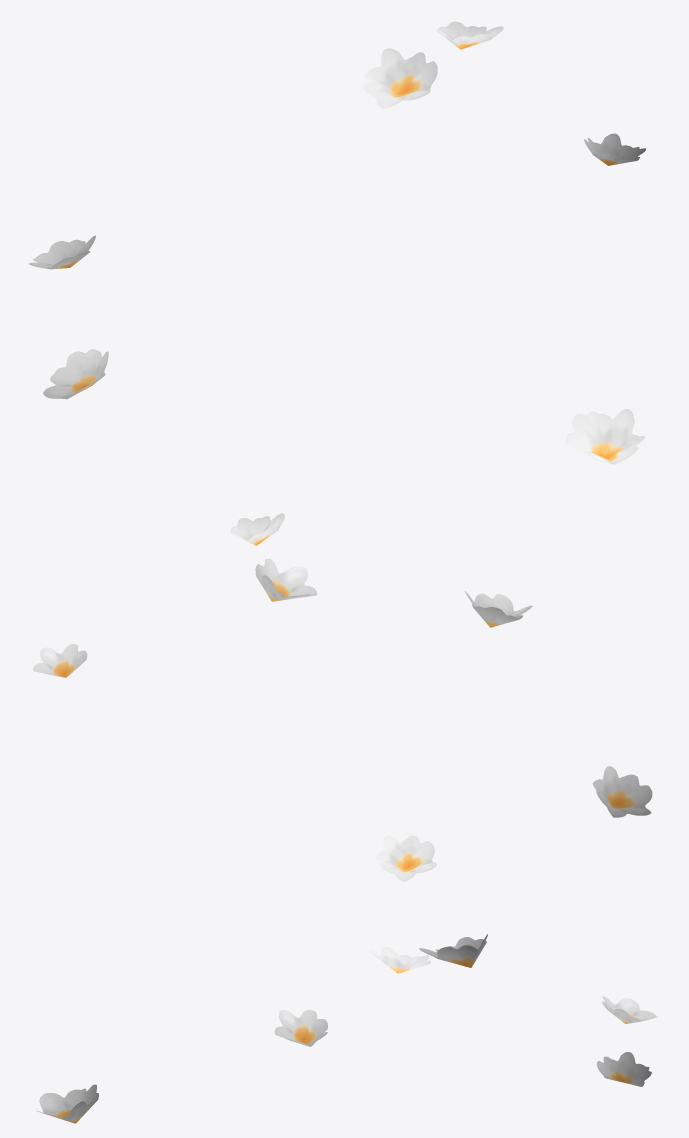
The model's file is hua_01.fbx.
3 views of the same model, one above another, from view 1: azimuth 30°, elevation 25°; view 2: azimuth 150°, elevation 25°; view 3: azimuth 270°, elevation 25° (orthographic). The views are drawn at different scales.
Parts seen in each view (by area): view 1: hua_01; view 2: hua_01; view 3: hua_01.
Part boxes in pixels (<box>): hua_01: <box>29,21,645,464</box>; hua_01: <box>33,513,652,881</box>; hua_01: <box>36,934,657,1123</box>.
Size of the model in its own units: 181 by 71.56 by 198.
1 material, 1 textured.
